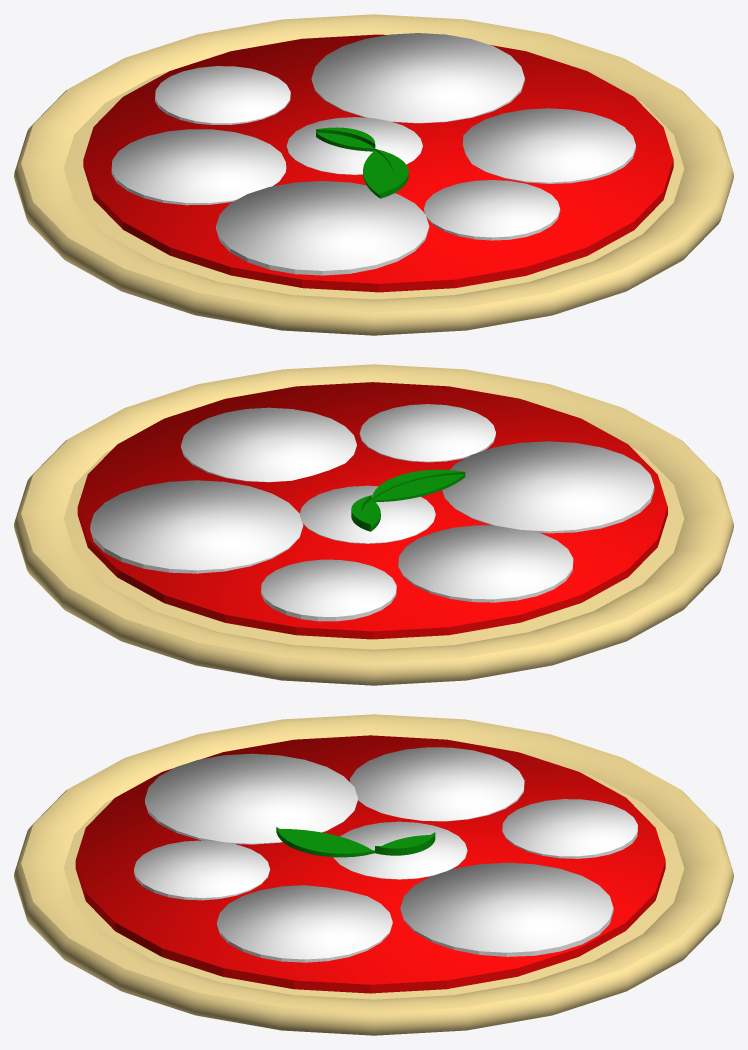
The model's file is pizzaHub.fbx.
3 views of the same model, one above another, from view 1: azimuth 30°, elevation 25°; view 2: azimuth 150°, elevation 25°; view 3: azimuth 270°, elevation 25° (orthographic).
Parts seen in each view (by area): view 1: Group1, Group7, Group3, Group9, Group5, Group4, Group6, Group8, Group10, Group11; view 2: Group1, Group7, Group9, Group3, Group5, Group4, Group8, Group6, Group10, Group11; view 3: Group1, Group7, Group9, Group3, Group4, Group5, Group8, Group6, Group10, Group11.
Part boxes in pixels (x1,y1,x2,y2): Group1: [14, 14, 733, 335]; Group7: [83, 34, 673, 292]; Group3: [216, 181, 429, 275]; Group9: [311, 33, 524, 123]; Group5: [111, 129, 286, 205]; Group4: [463, 108, 635, 183]; Group6: [424, 180, 560, 240]; Group8: [155, 66, 290, 124]; Group10: [286, 117, 422, 174]; Group11: [316, 127, 408, 198]; Group1: [14, 364, 733, 685]; Group7: [77, 382, 667, 639]; Group9: [90, 480, 303, 573]; Group3: [442, 441, 654, 533]; Group5: [398, 525, 573, 602]; Group4: [181, 407, 356, 482]; Group8: [261, 559, 396, 621]; Group6: [359, 404, 495, 462]; Group10: [299, 485, 435, 543]; Group11: [351, 469, 465, 531]; Group1: [14, 714, 733, 1035]; Group7: [75, 735, 665, 993]; Group9: [400, 862, 613, 956]; Group3: [145, 753, 357, 844]; Group4: [217, 885, 392, 962]; Group5: [350, 747, 524, 821]; Group8: [502, 799, 637, 858]; Group6: [134, 840, 270, 900]; Group10: [333, 821, 467, 879]; Group11: [276, 827, 435, 857].
Size of the model in its own units: 11.17 by 0.6782 by 11.17.
